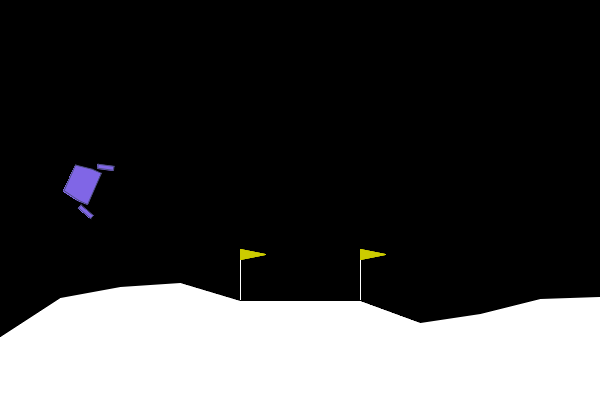lander: (55, 150, 116, 221)
